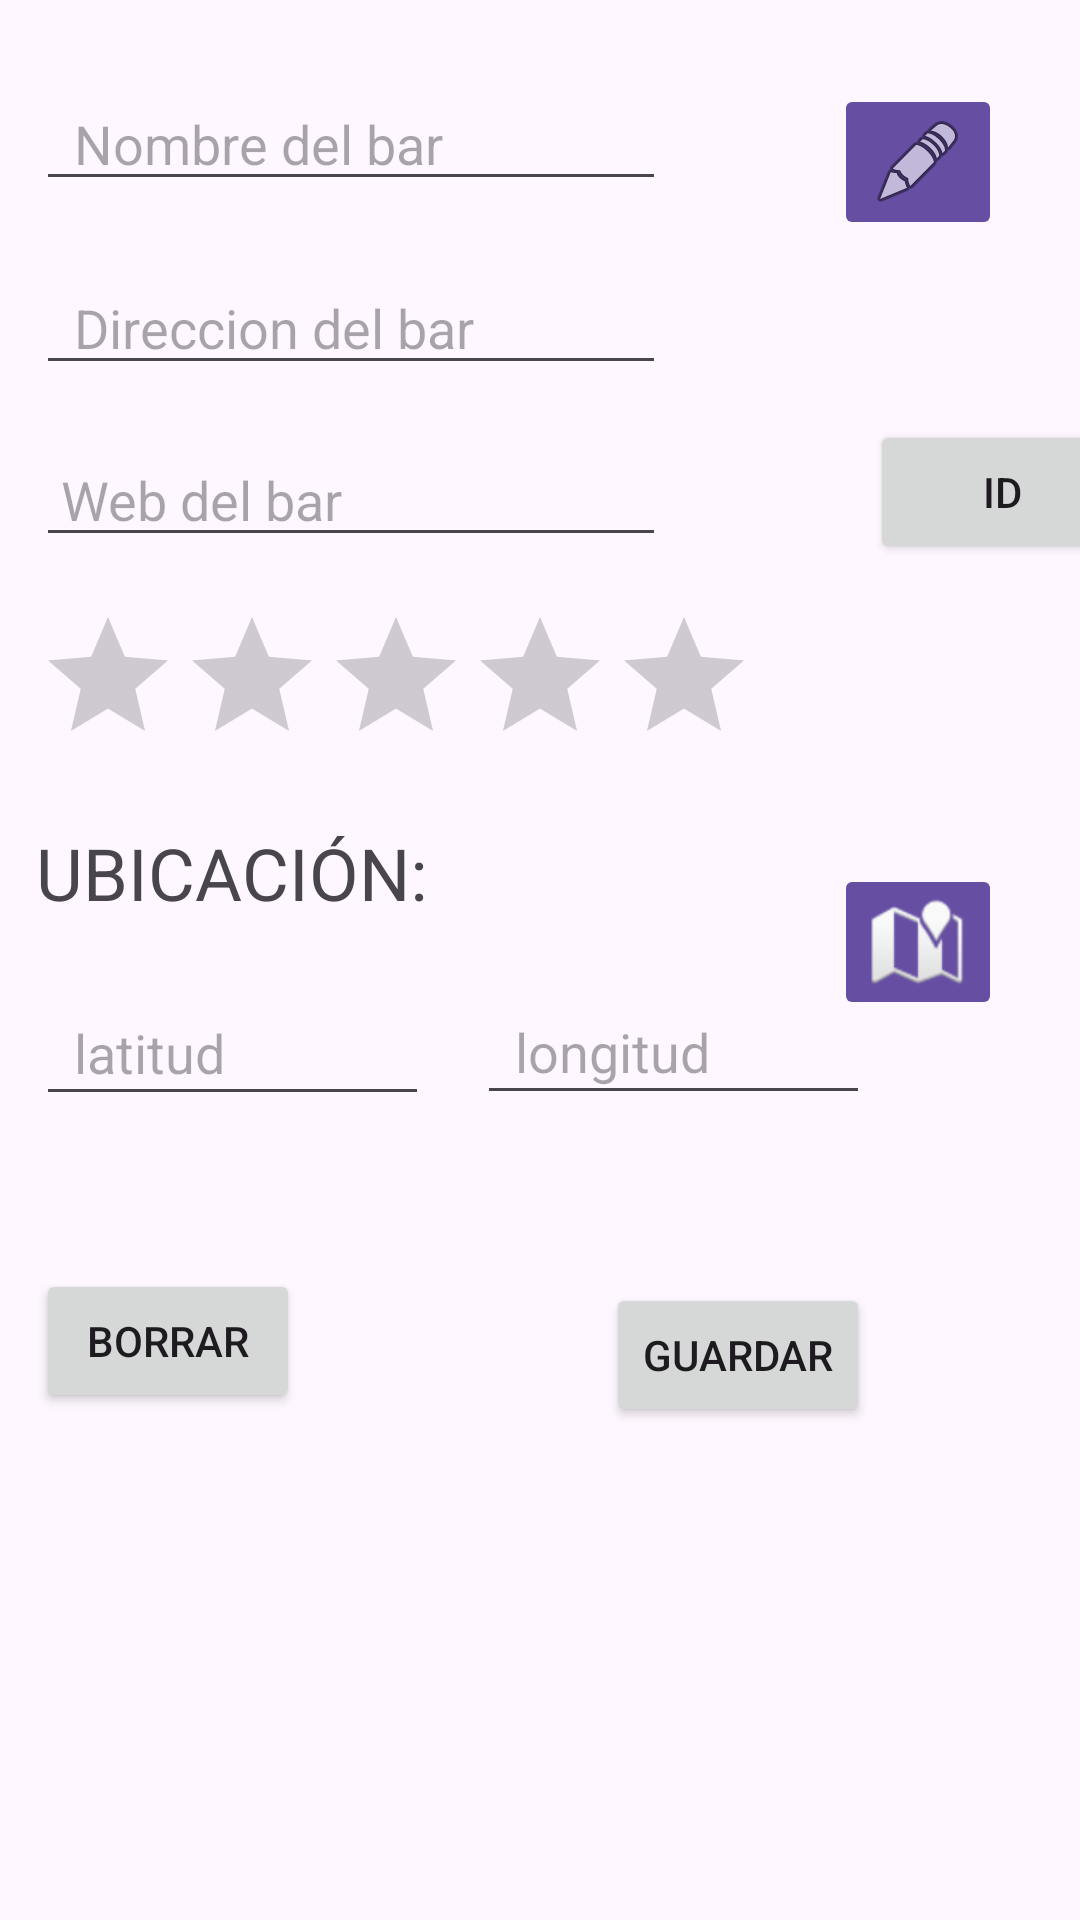

Locate icon controls on the screen. Image size 1080*1920, boxes as {"x1": x1, "y1": y1, "x2": x2, "y2": y2}.
edit: {"x1": 846, "y1": 102, "x2": 990, "y2": 222}
map: {"x1": 846, "y1": 882, "x2": 990, "y2": 1002}
